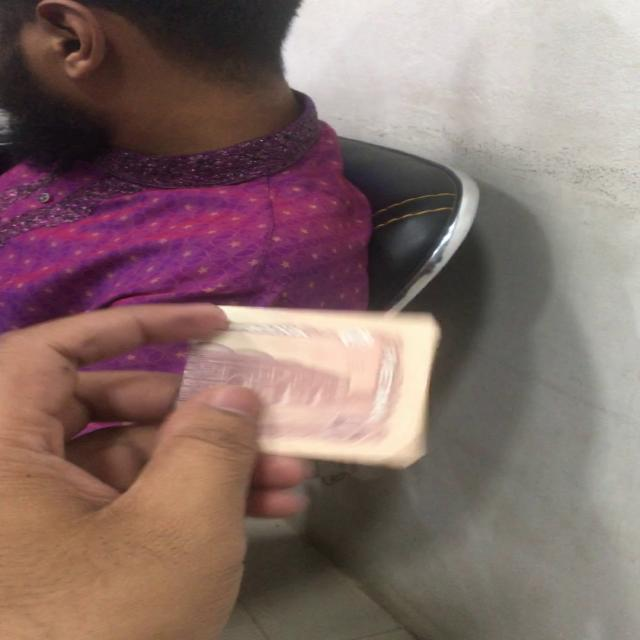Taka: (205, 306, 428, 461)
